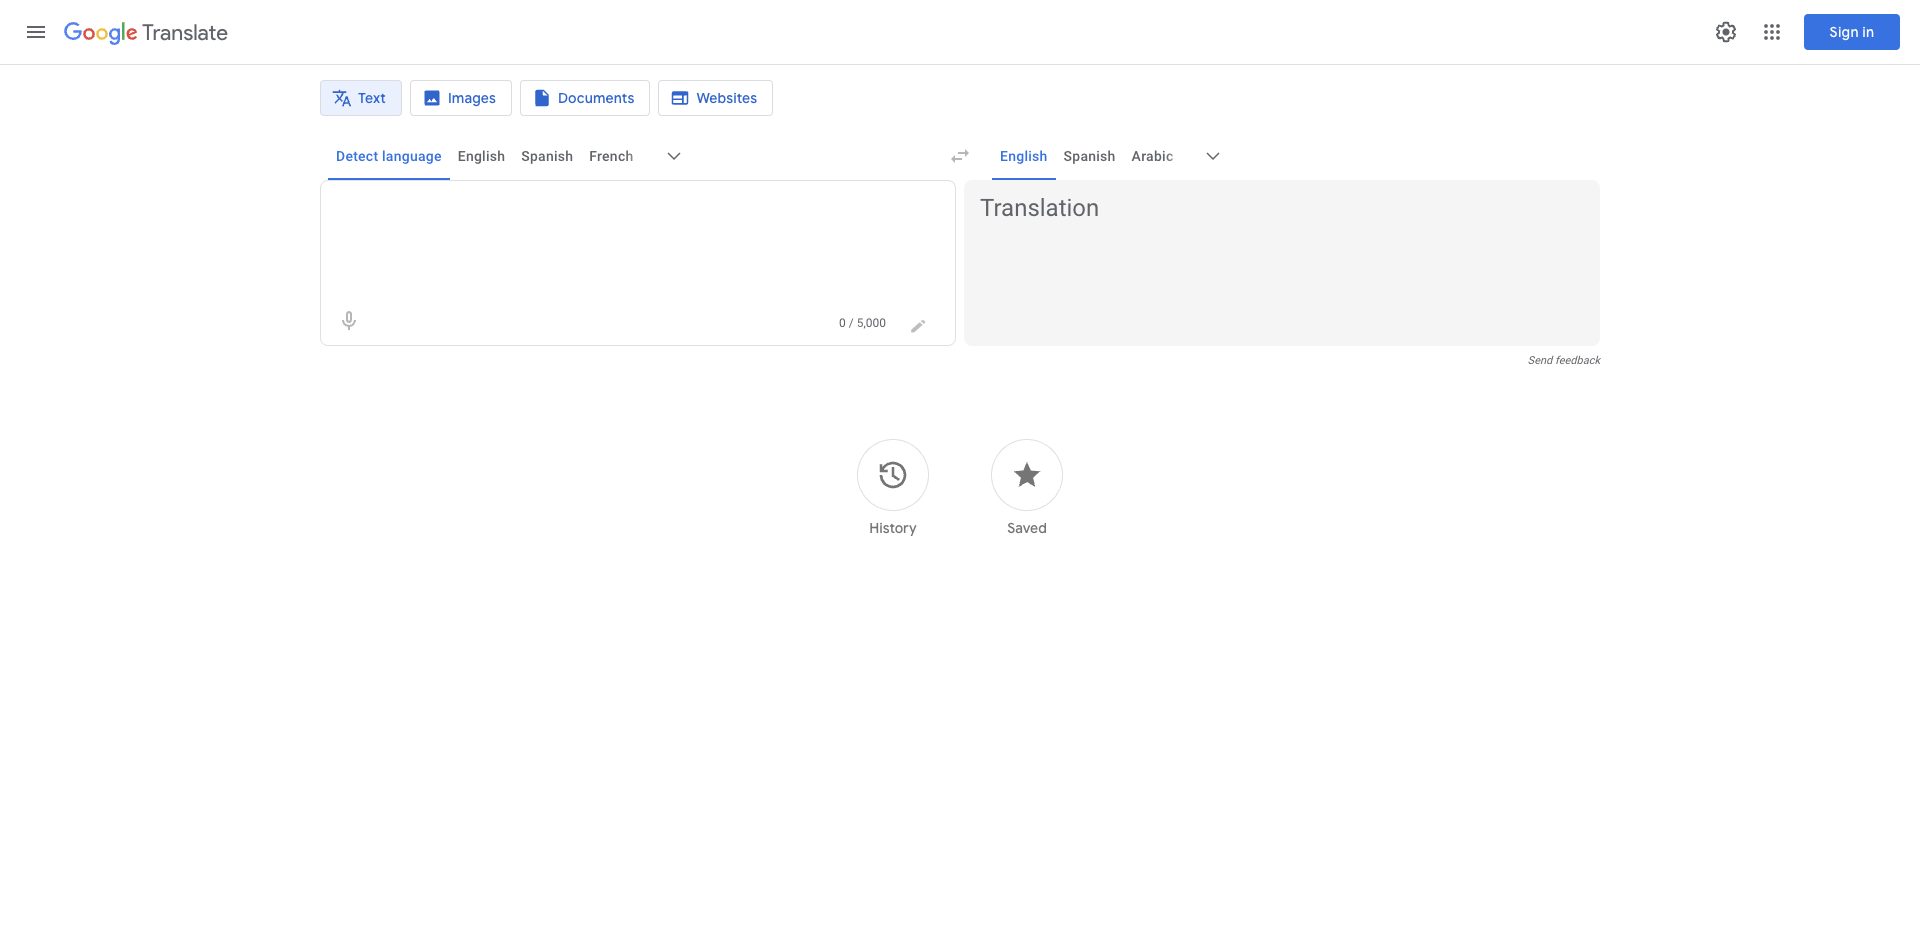button: (328, 132, 449, 180), (520, 80, 650, 116), (659, 80, 774, 116), (410, 80, 512, 116), (513, 132, 582, 180), (1056, 132, 1124, 180), (449, 132, 513, 180), (992, 132, 1056, 180), (320, 80, 402, 116), (582, 132, 642, 180), (1124, 132, 1182, 180), (324, 297, 373, 346), (12, 9, 60, 56), (1702, 9, 1750, 56), (654, 136, 693, 176), (940, 136, 980, 176), (1194, 136, 1233, 176), (1752, 12, 1791, 51), (1528, 354, 1600, 368), (902, 308, 936, 334)
link: (857, 439, 929, 537), (991, 439, 1063, 537), (64, 22, 228, 47), (1804, 13, 1900, 50)
textarea: (337, 194, 902, 225)
